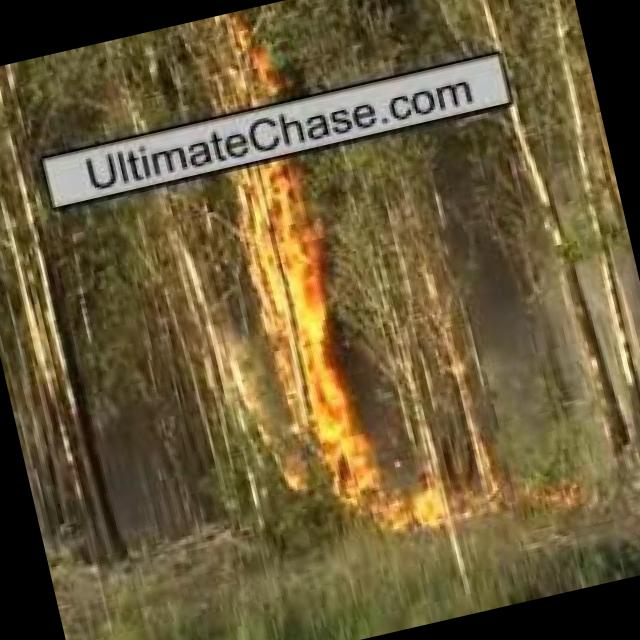Fire: (226, 158, 378, 452), (310, 434, 460, 558), (216, 21, 280, 114)
